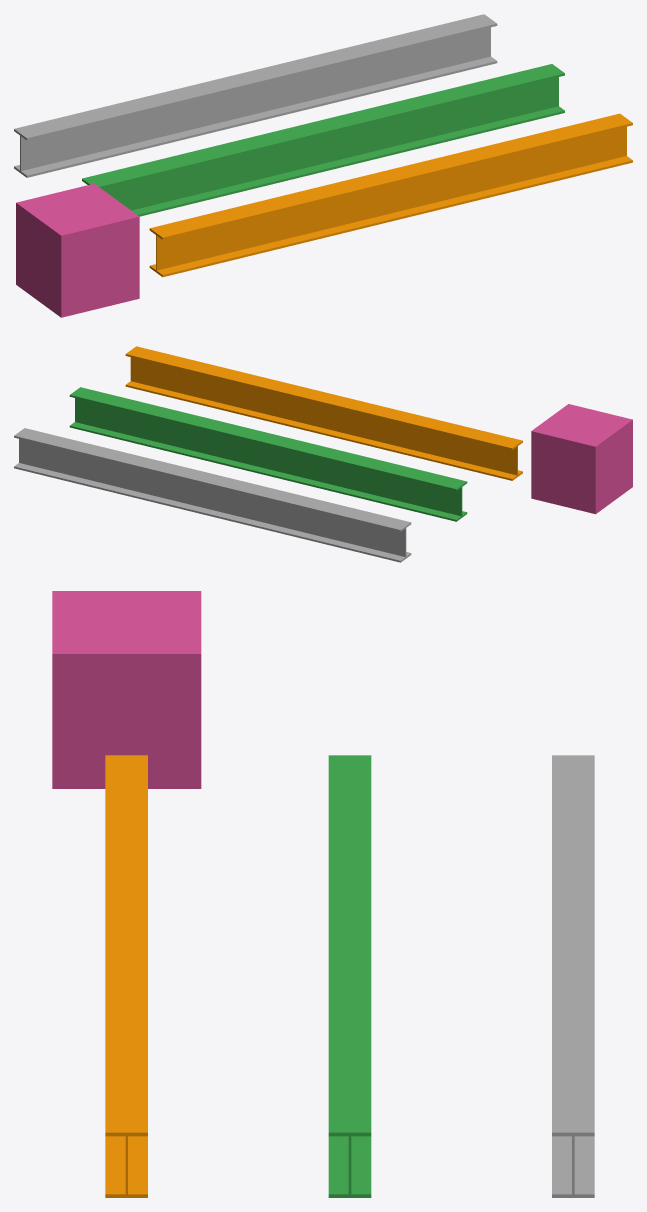
Rendered from ismerely_estructura.glb.
3 renders of one model, top to bottom at view 1: azimuth 30°, elevation 25°; view 2: azimuth 150°, elevation 25°; view 3: azimuth 270°, elevation 25°, orthographic. The views are drawn at different scales.
Visible parts, largest first — view 1: RA_GRIS, RA_NARANJA, RA_VERDE, RA_REF; view 2: RA_NARANJA, RA_VERDE, RA_GRIS, RA_REF; view 3: RA_REF, RA_VERDE, RA_NARANJA, RA_GRIS.
Part boxes in pixels (left/top/right/bottom): RA_GRIS: left=14, top=14, right=497, bottom=177; RA_NARANJA: left=149, top=113, right=632, bottom=277; RA_VERDE: left=82, top=64, right=564, bottom=216; RA_REF: left=16, top=183, right=139, bottom=317; RA_NARANJA: left=125, top=346, right=522, bottom=480; RA_VERDE: left=69, top=387, right=467, bottom=521; RA_GRIS: left=14, top=428, right=411, bottom=562; RA_REF: left=531, top=404, right=632, bottom=514; RA_REF: left=52, top=591, right=201, bottom=788; RA_VERDE: left=328, top=755, right=371, bottom=1197; RA_NARANJA: left=105, top=755, right=147, bottom=1197; RA_GRIS: left=552, top=755, right=594, bottom=1197.
Bounding box in the file's own units: 7.5 × 1 × 3.64.
